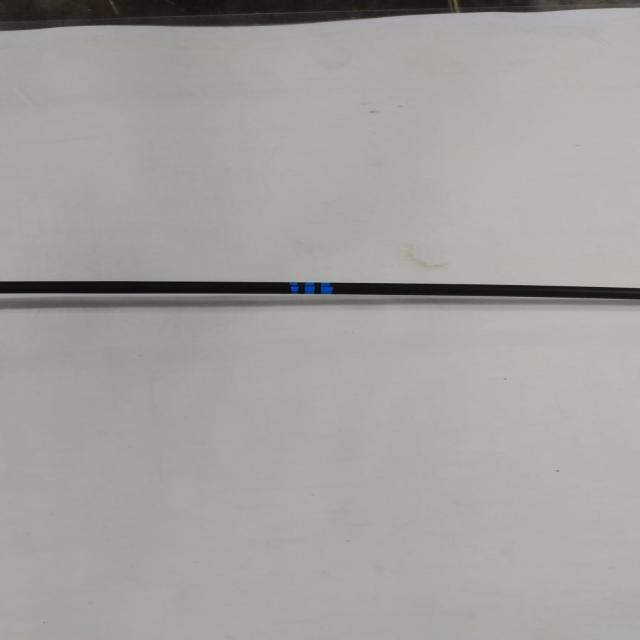blue: (289, 282, 333, 295)
